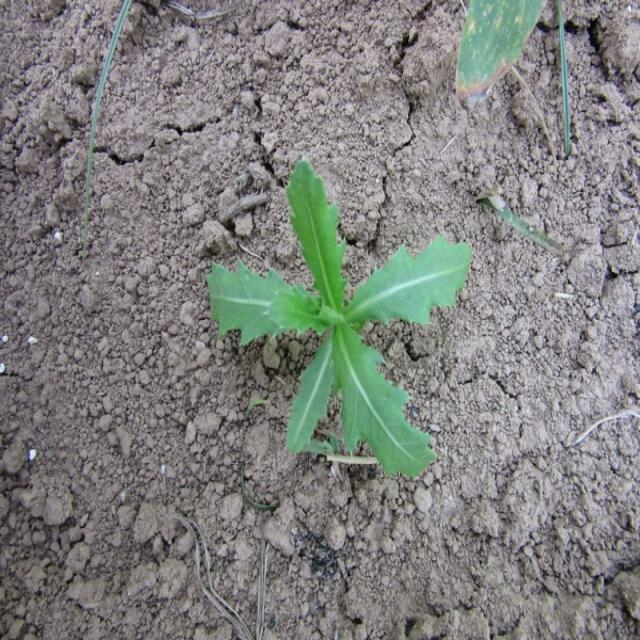field_thistle: (194, 152, 484, 477)
